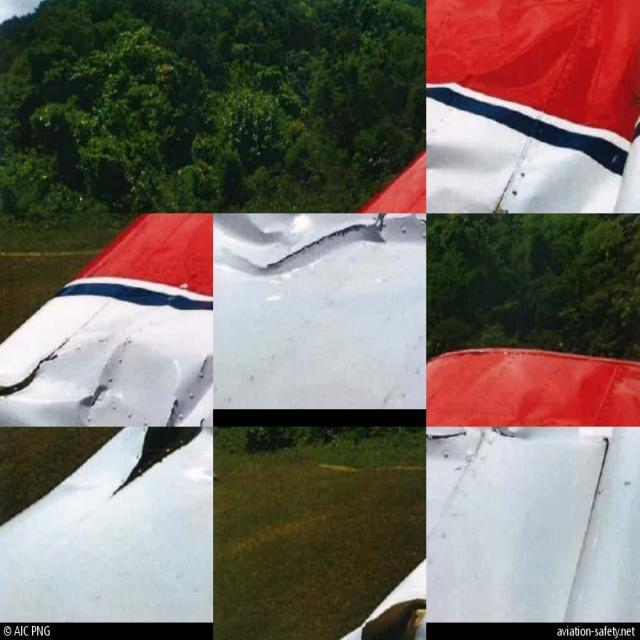crack: (256, 223, 382, 268)
